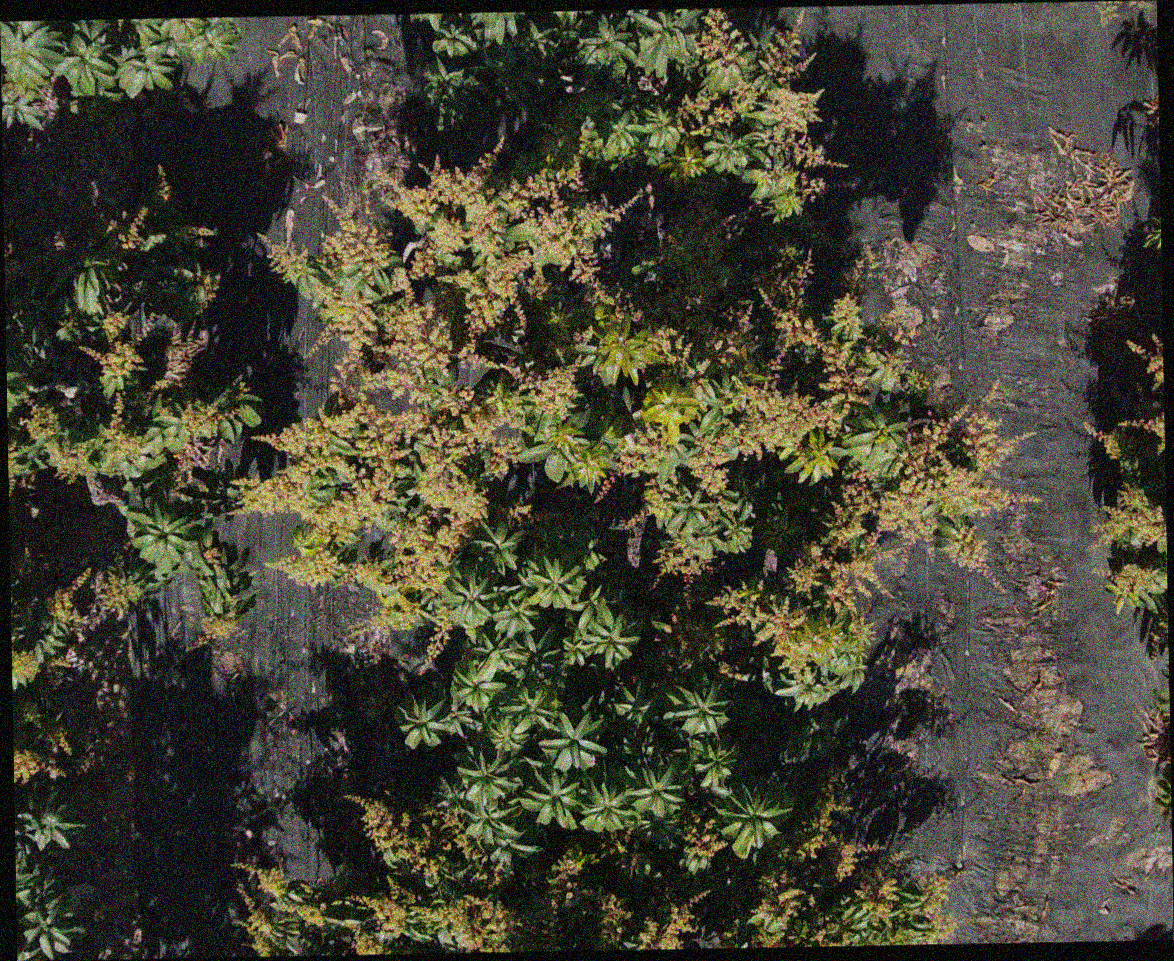flowers: (236, 157, 616, 602), (711, 418, 1011, 706), (652, 198, 851, 469), (352, 795, 501, 889), (779, 770, 875, 882), (44, 555, 150, 638), (760, 27, 821, 166), (825, 292, 905, 392), (17, 394, 102, 481), (614, 482, 675, 568), (1093, 482, 1166, 553), (436, 894, 513, 953), (745, 165, 825, 221), (748, 870, 805, 948), (636, 891, 710, 949), (677, 84, 757, 135), (946, 525, 1003, 594), (80, 341, 145, 399), (652, 538, 713, 599), (12, 697, 70, 754), (695, 8, 744, 69), (916, 874, 957, 945), (618, 424, 669, 476), (364, 879, 409, 937), (417, 609, 453, 675), (1105, 563, 1154, 611), (856, 865, 896, 923), (105, 401, 143, 462), (239, 889, 271, 957), (682, 811, 727, 859), (185, 612, 237, 651), (180, 399, 232, 437), (1126, 335, 1163, 388), (234, 861, 290, 896), (1119, 411, 1164, 454), (597, 890, 632, 945), (13, 745, 63, 783), (11, 627, 40, 688), (1094, 1, 1154, 26), (118, 205, 150, 251), (192, 269, 220, 314), (353, 927, 393, 955), (101, 309, 129, 342), (176, 224, 215, 247), (716, 921, 747, 948), (38, 84, 59, 120), (507, 504, 537, 529), (1, 81, 33, 101), (8, 442, 20, 495), (752, 932, 783, 948)
